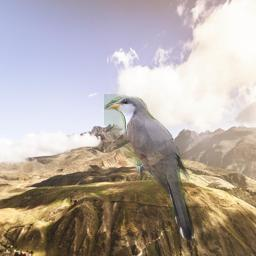Cuckoo: (104, 94, 199, 243)
